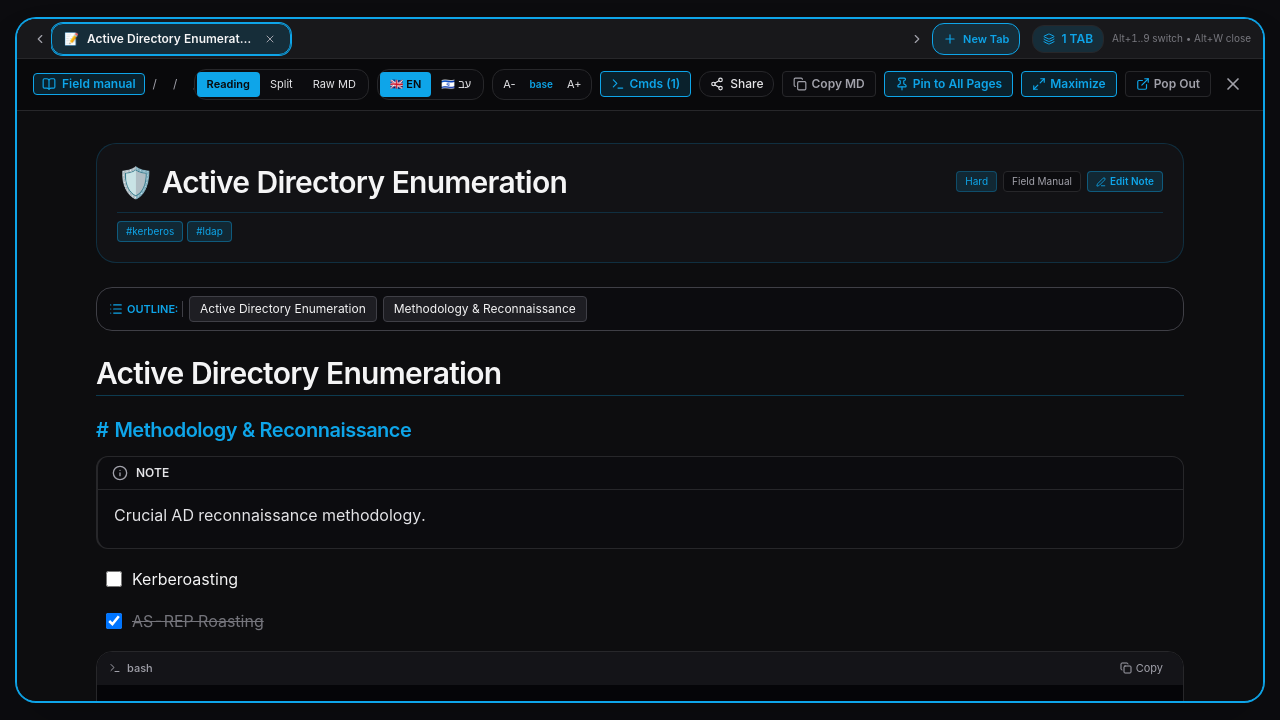
MarkdownEditor & Multi-Mode In-App Editing Suite › R4: Full Integration in ObsidianNoteViewer Tri-Mode Switcher › switches between Reading, Split, and Raw modes seamlessly
Note: Click Split button in header
Click the button titled "Split side-by-side editor and live preview": point(281, 84) [260,72,303,96]
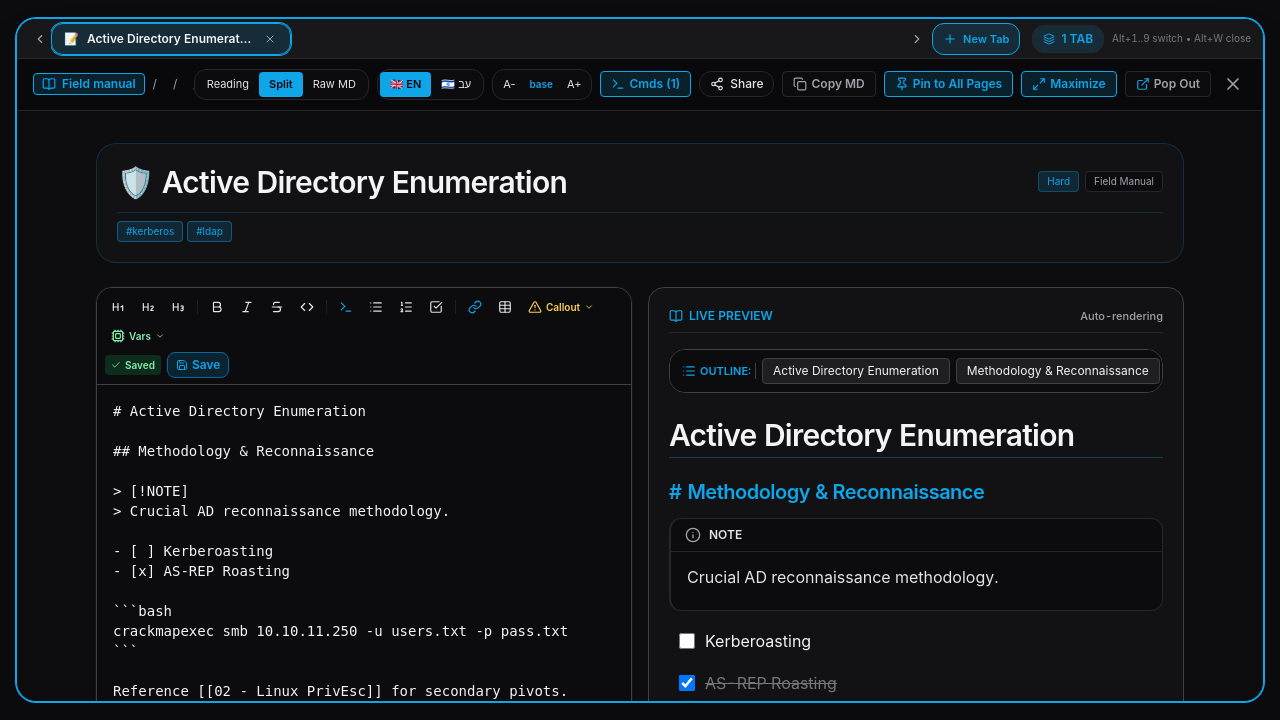
Check: the text "LIVE PREVIEW" is shown, box [689,308,773,324]
Note: Click Raw MD button in header
Click the button titled "View raw Obsidian markdown": point(334, 84) [303,72,366,96]
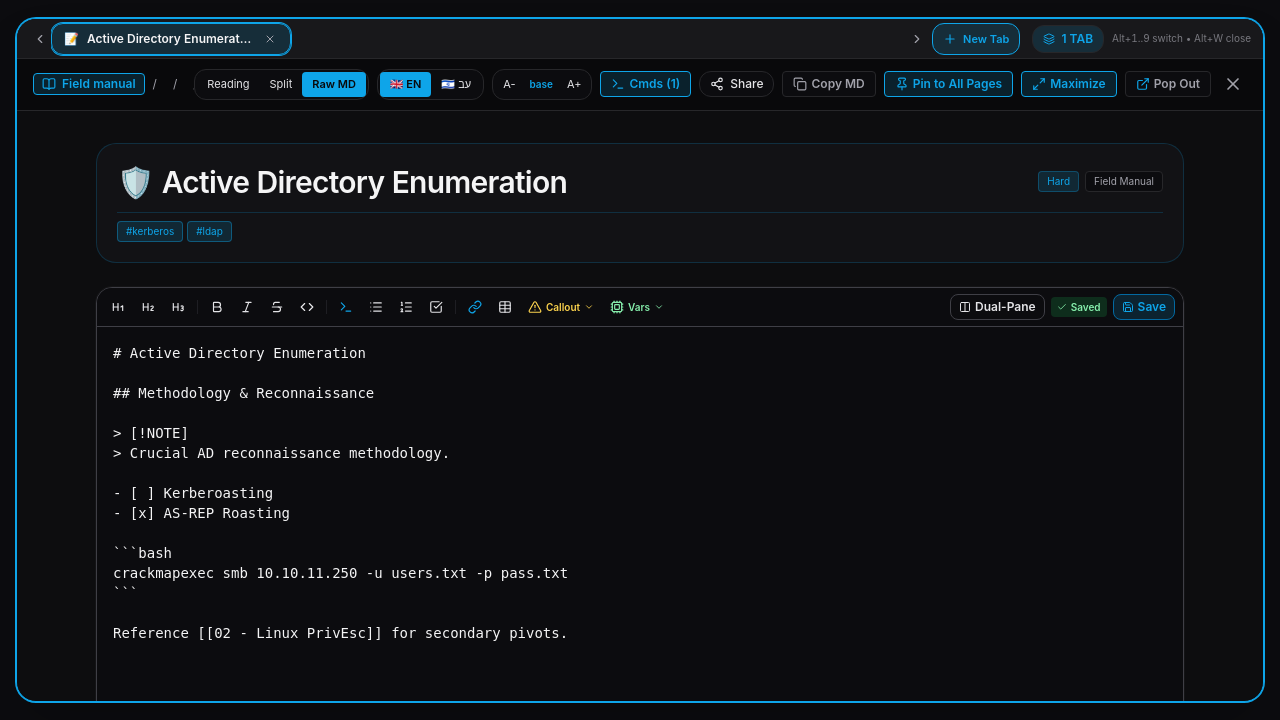
Check: the text box with test id "markdown-editor-textarea" is shown, box [97,326,1183,701]
Check: the text "LIVE PREVIEW" is gone
Note: Click Reading button in header
Click the button titled "Obsidian rich formatted reading mode": point(228, 84) [197,72,260,96]
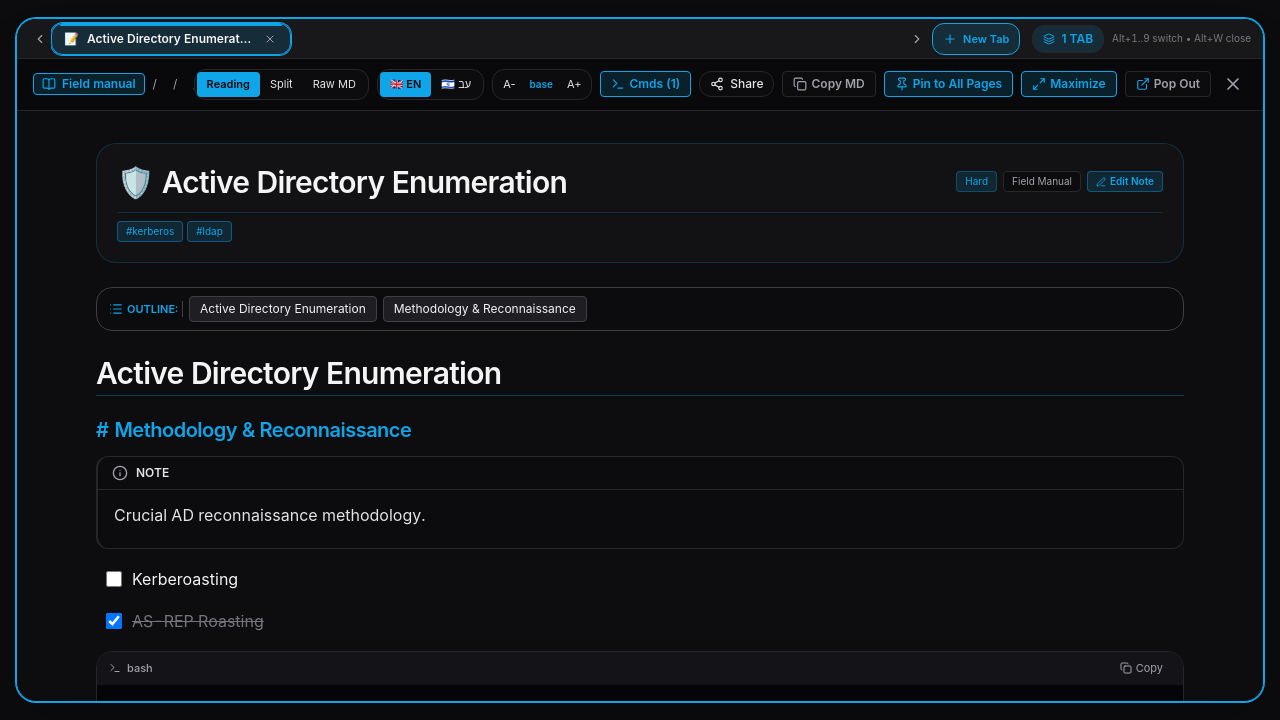
Check: the text "Crucial AD reconnaissance methodology." is shown, box [114,504,426,524]
